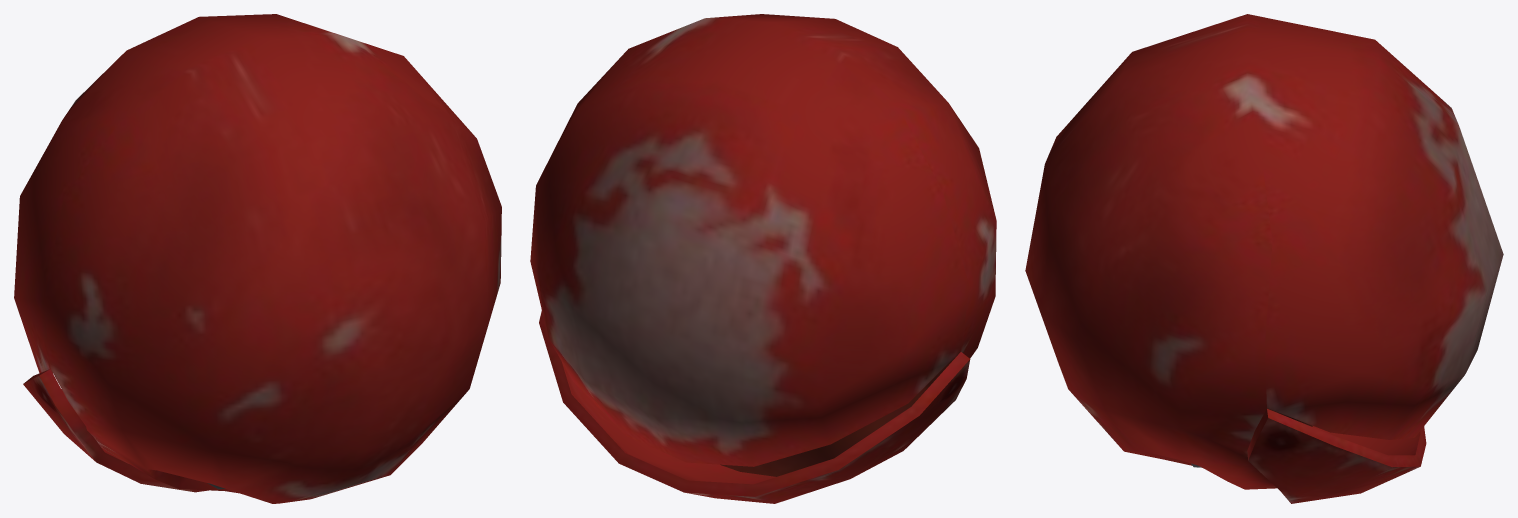
The model's file is murphy_putdisk.obj.
3 views of the same model, side by side, from view 1: azimuth 30°, elevation 25°; view 2: azimuth 150°, elevation 25°; view 3: azimuth 270°, elevation 25° (orthographic). The views are drawn at different scales.
Parts seen in each view (by area): view 1: Object01, Object02; view 2: Object01, Object02; view 3: Object01, Object02.
Part boxes in pixels (x1=…): Object01: x1=14, y1=14, x2=501, y2=503; Object02: x1=23, y1=369, x2=208, y2=492; Object01: x1=530, y1=14, x2=996, y2=476; Object02: x1=539, y1=310, x2=970, y2=503; Object01: x1=1025, y1=14, x2=1503, y2=489; Object02: x1=1247, y1=409, x2=1426, y2=503.
Bounding box in the file's own units: 20.08 × 20.34 × 19.83.
Materials: 1 (1 with a texture image).
